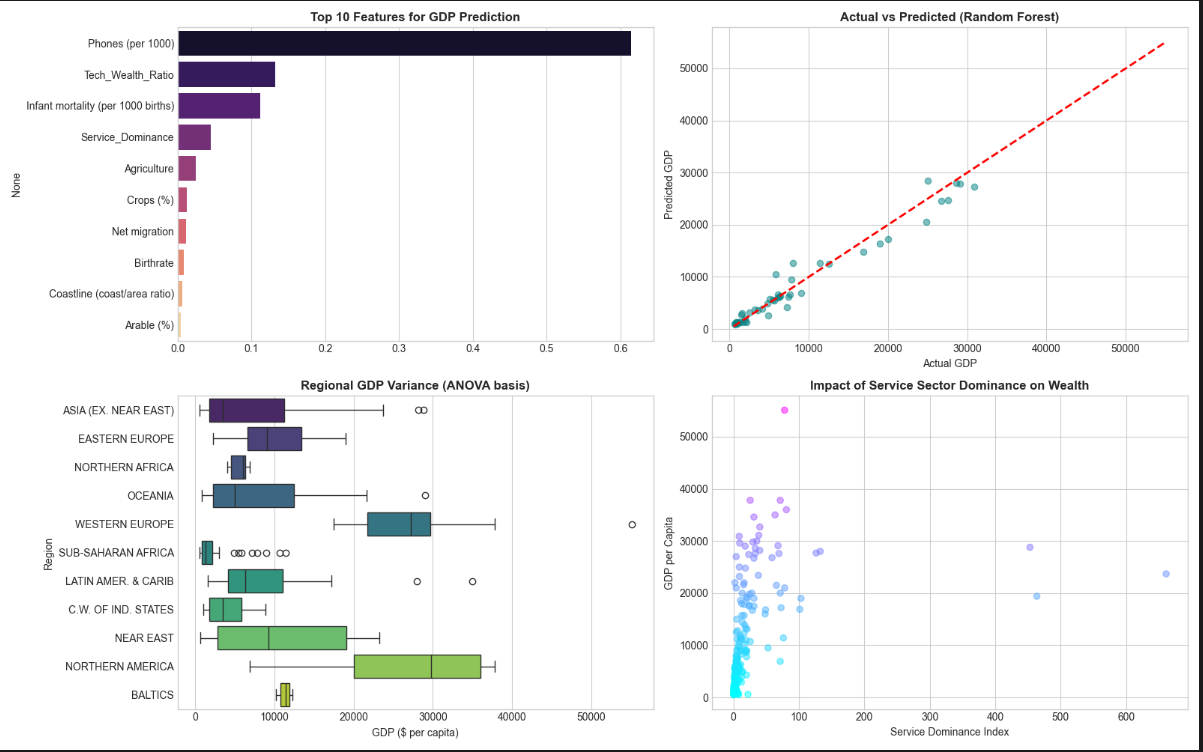

What the dashboard file says about the page in this screenshot:
{"tool":"powerbi","page":{"name":"Page 1","canvas":[1280,720],"ordinal":0},"visuals":[{"type":"pythonVisual","fields":{"Values":["powerbi_data.Country","powerbi_data.Region","powerbi_data.GDP ($ per capita)","Sum(powerbi_data.Birthrate)","Sum(powerbi_data.Crops (%))","Sum(powerbi_data.Net migration)","Sum(powerbi_data.Total_GDP_B)","Sum(powerbi_data.Pop. Density (per sq. mi.))","Sum(powerbi_data.Other (%))","Sum(powerbi_data.Infant mortality (per 1000 births))","Sum(powerbi_data.Deathrate)","Sum(powerbi_data.Climate)"]},"box":[0,0,1280,720],"z":0}]}

Visuals, with their boxes on the page's 1280x720 design canvas (x1, y1, x2, y2). These are canvas units, not pixel positions in the 1203x752 screenshot, which may show the page scaled, cropped or inside an application window:
pythonVisual - powerbi_data.Country x powerbi_data.Region: select_region(0, 0, 1280, 720)
